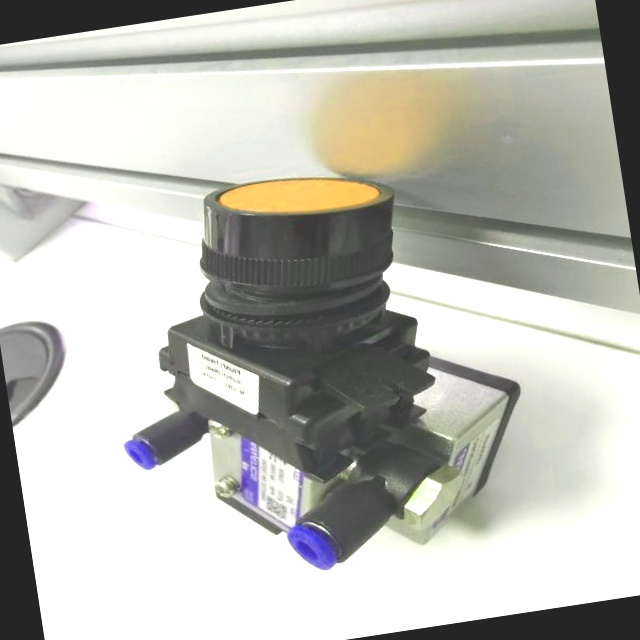push button: (87, 146, 543, 597)
